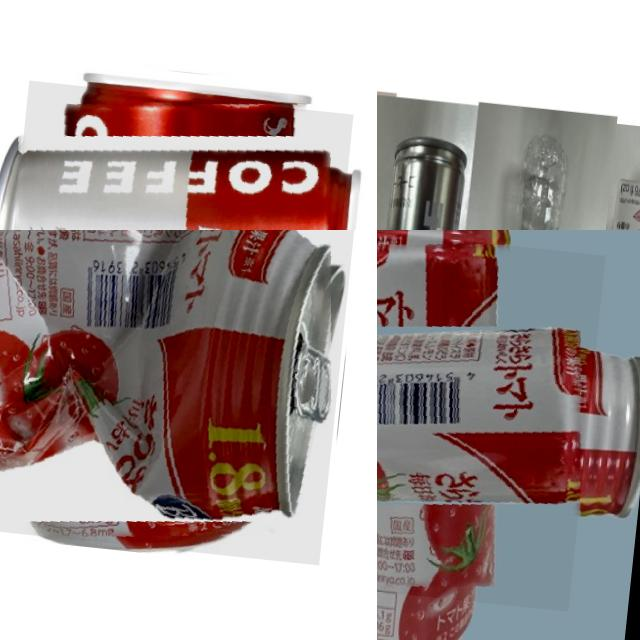Can: (0, 230, 358, 564), (377, 230, 604, 610), (0, 79, 352, 230), (377, 131, 472, 230)
Transparent Plastic Bottle: (485, 129, 572, 230)
